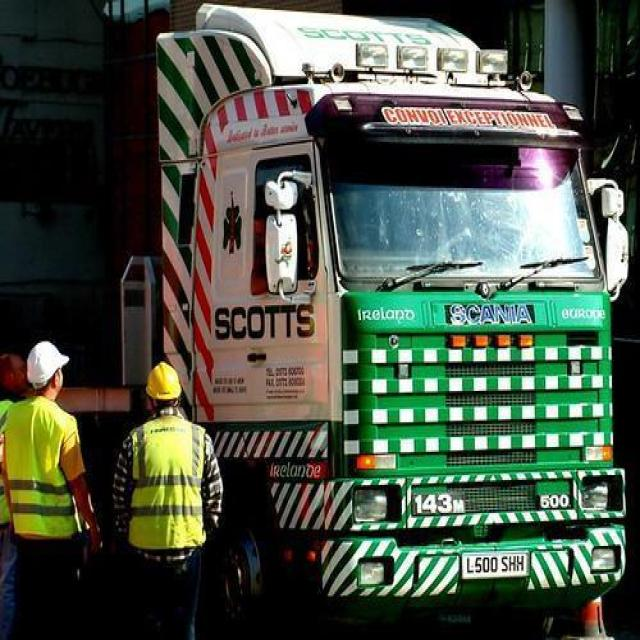Vest: (1, 394, 81, 536), (125, 417, 208, 553), (0, 399, 18, 530)
